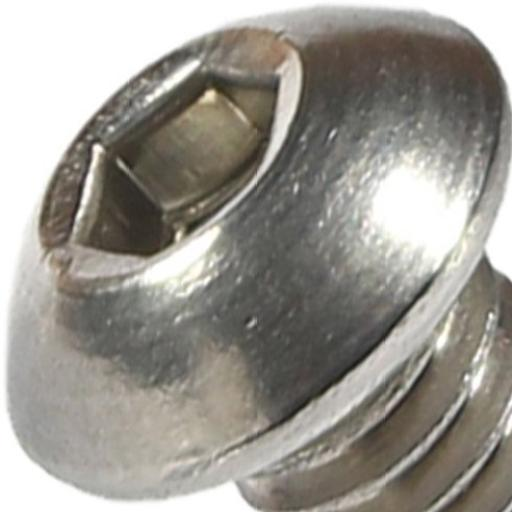Hex-Allen: (0, 7, 511, 512)
